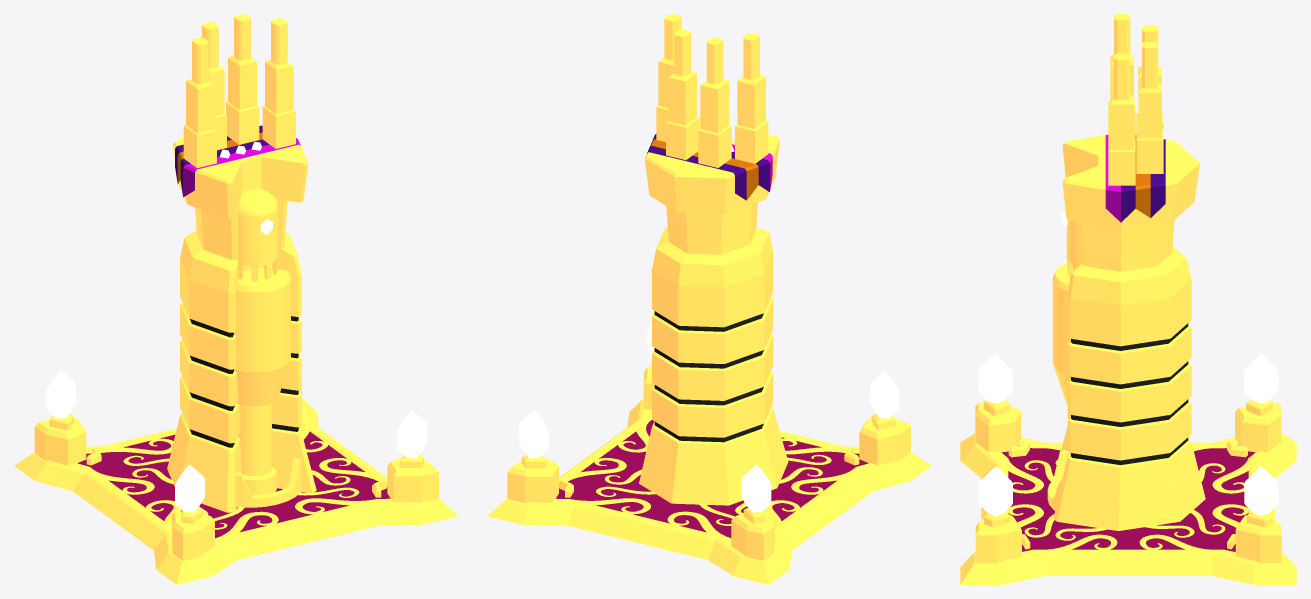
The model's file is 6_aaltar_LE_6.fbx.
The picture shows the model from 3 angles, left to right: view 1: azimuth 30°, elevation 25°; view 2: azimuth 150°, elevation 25°; view 3: azimuth 270°, elevation 25°; orthographic projection. The views are drawn at different scales.
Parts seen in each view (by area): view 1: aaltar_LE_6; view 2: aaltar_LE_6; view 3: aaltar_LE_6.
Boxes of the visible parts, x1,y1,x2,y2 form: aaltar_LE_6: (14, 14, 458, 584); aaltar_LE_6: (487, 14, 931, 584); aaltar_LE_6: (960, 14, 1296, 584).
Size of the model in its own units: 78.77 by 123 by 78.73.
